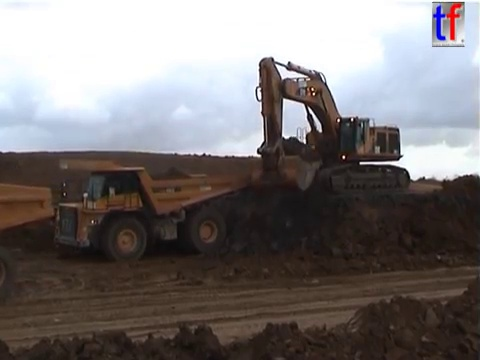excavator: (249, 55, 413, 198)
truck: (53, 156, 247, 263), (1, 179, 56, 306)
